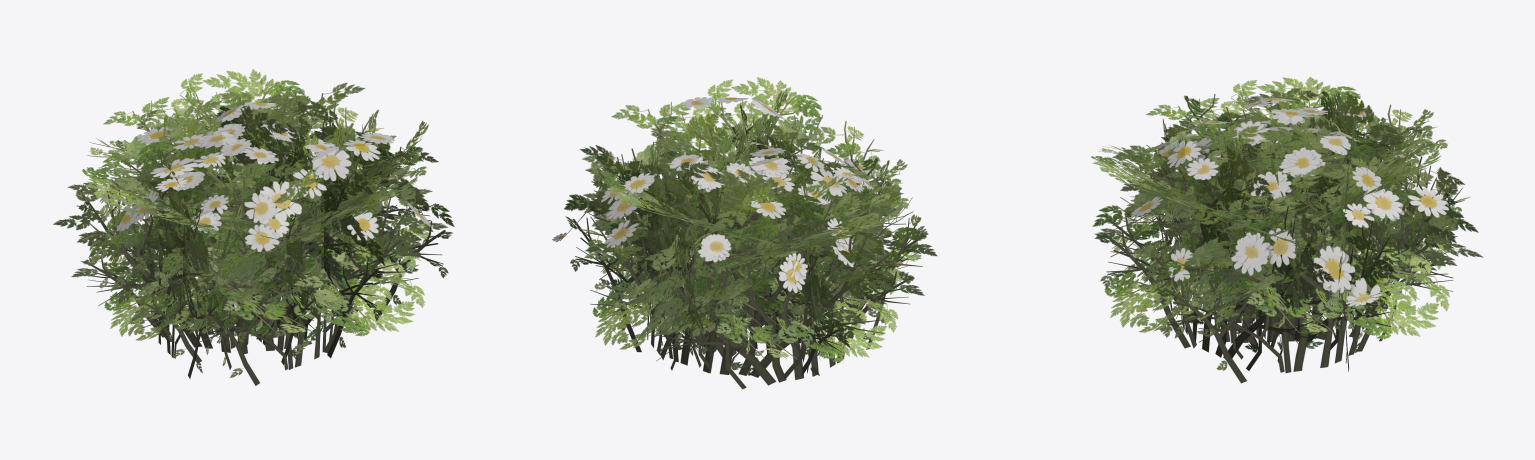
The model's file is flowers2.glb.
The picture shows the model from 3 angles, left to right: view 1: azimuth 30°, elevation 25°; view 2: azimuth 150°, elevation 25°; view 3: azimuth 270°, elevation 25°; orthographic projection. The views are drawn at different scales.
Parts seen in each view (by area): view 1: Flowers-04; view 2: Flowers-04; view 3: Flowers-04.
Boxes of the visible parts, x1=… form: Flowers-04: x1=53, y1=69, x2=454, y2=385; Flowers-04: x1=552, y1=77, x2=937, y2=389; Flowers-04: x1=1091, y1=77, x2=1483, y2=383.
Bounding box in the file's own units: 1.41 × 0.943 × 1.47.
Materials: 4 (4 with a texture image).
